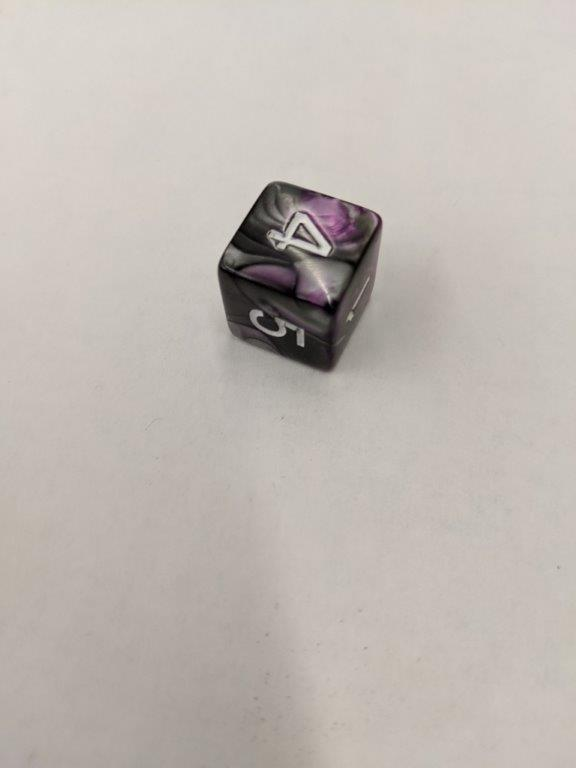d6-4: (216, 177, 383, 372)
